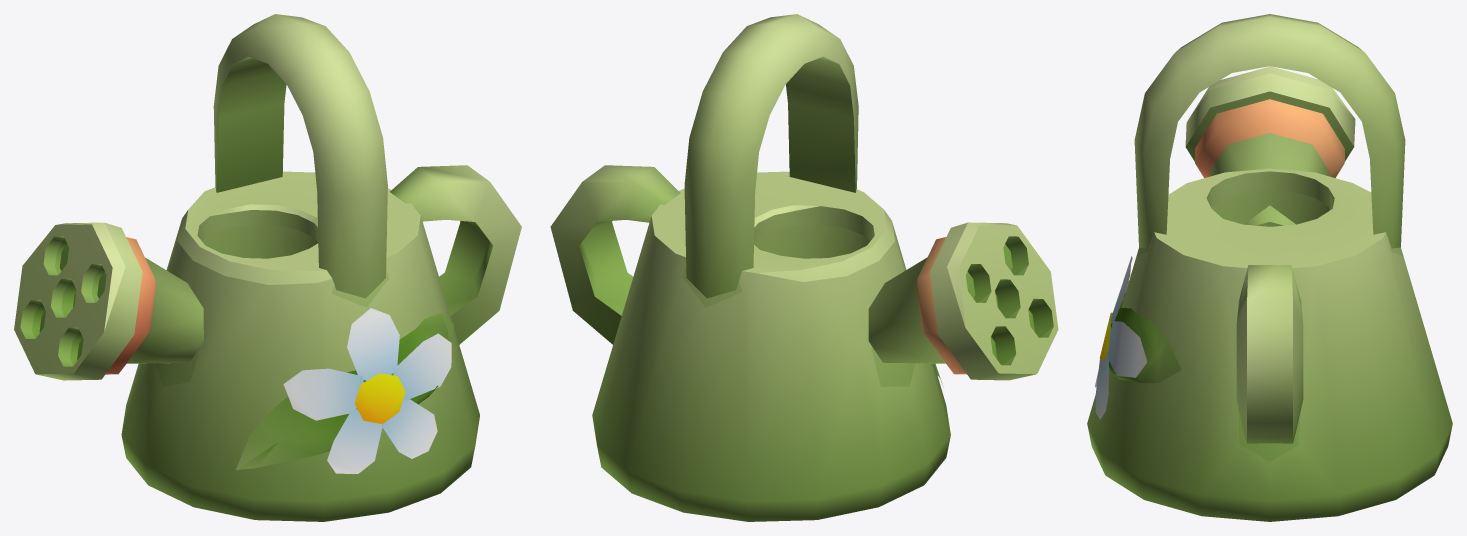
Rendered from wateringcanwflower_001.glb.
The picture shows the model from 3 angles, left to right: view 1: azimuth 30°, elevation 25°; view 2: azimuth 150°, elevation 25°; view 3: azimuth 270°, elevation 25°; orthographic projection.
Parts seen in each view (by area): view 1: wateringcanwflower.001; view 2: wateringcanwflower.001; view 3: wateringcanwflower.001.
Part boxes in pixels (x1,y1,x2,y2): wateringcanwflower.001: [14, 14, 521, 521]; wateringcanwflower.001: [550, 14, 1058, 521]; wateringcanwflower.001: [1087, 14, 1452, 521].
Bounding box in the file's own units: 1.03 × 0.9026 × 0.6817.
Materials: 1 (1 with a texture image).
